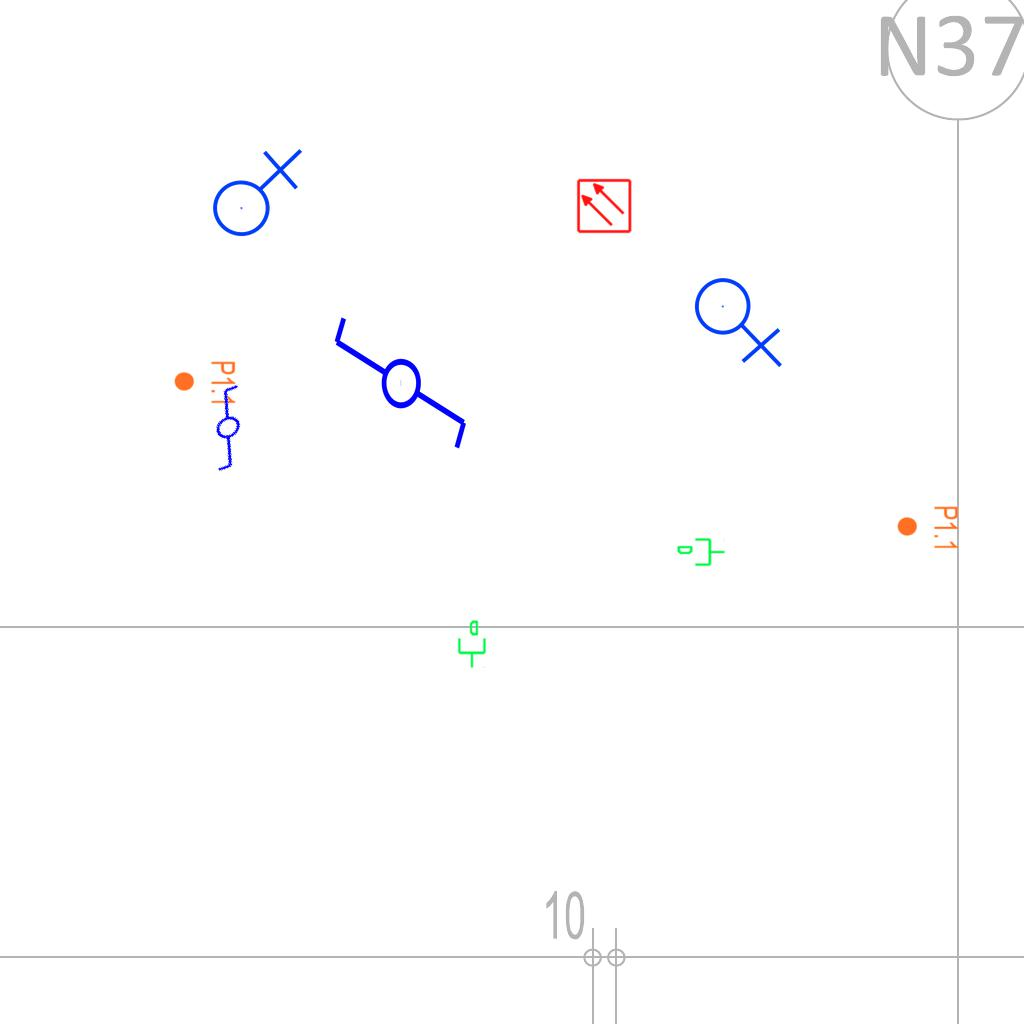Datenanschluss_einfach: (454, 619, 488, 669), (676, 536, 726, 570)
Downlight_LED_Einbauleuchten_Flur: (173, 360, 237, 406), (896, 505, 960, 551)
Elektroanschluss_allgemein_230V_Geraeteanschlussdose_230V: (693, 269, 787, 368), (204, 144, 303, 238)
RMO_Rauchmelder_optischer: (576, 178, 632, 234)
Wechselschalter: (327, 313, 471, 470), (179, 373, 285, 479)
